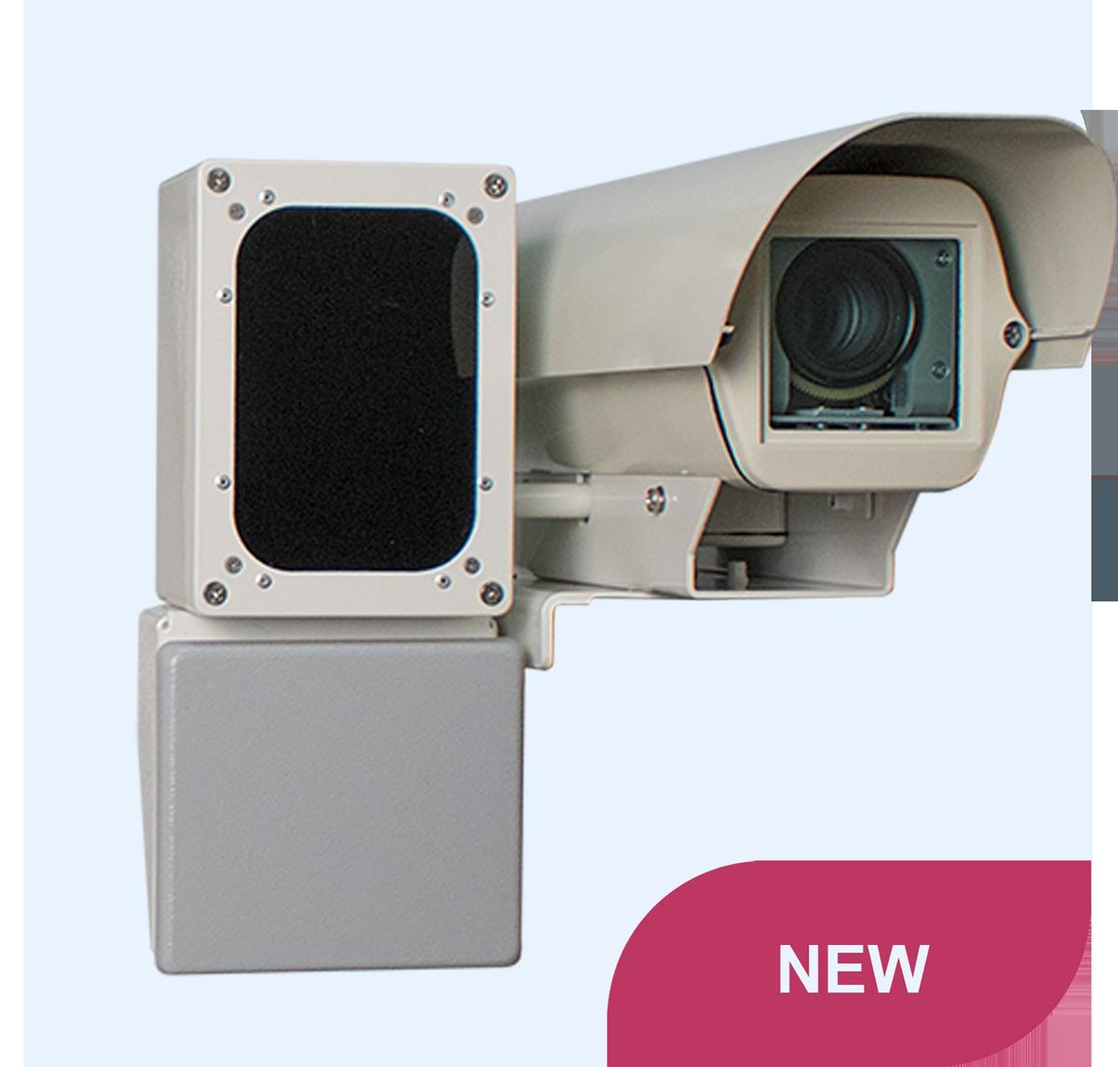Monitor: (541, 116, 1091, 579), (154, 155, 519, 622)
